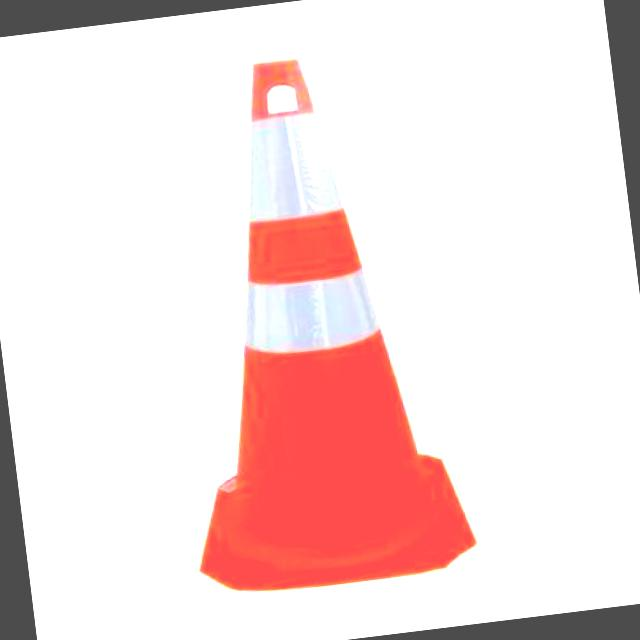cone: (140, 21, 488, 604)
